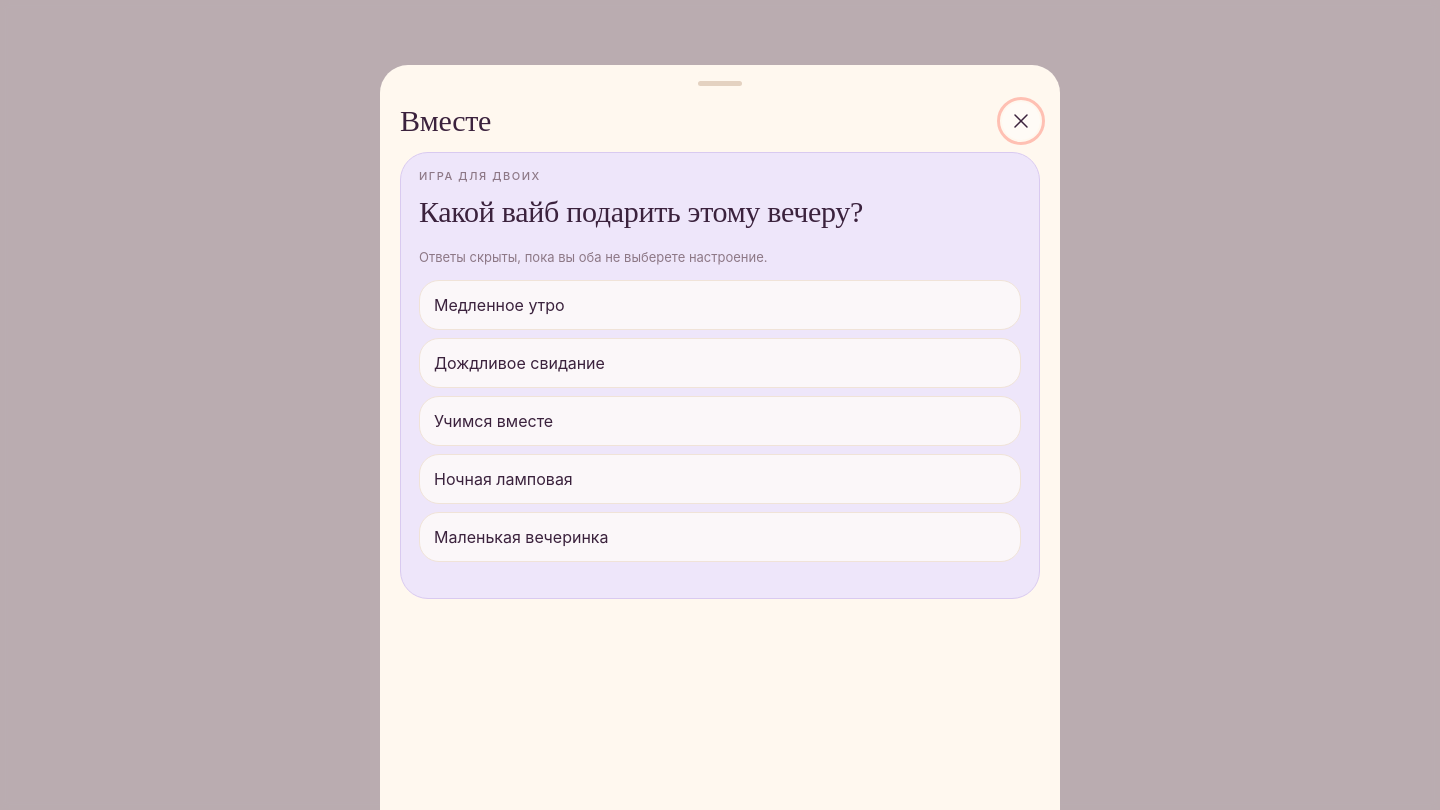
Test: choose-vibe pair game › waits for a partner after the first vibe choice
Click the button "Ночная ламповая" at (503, 479), box [419,454,1021,504]
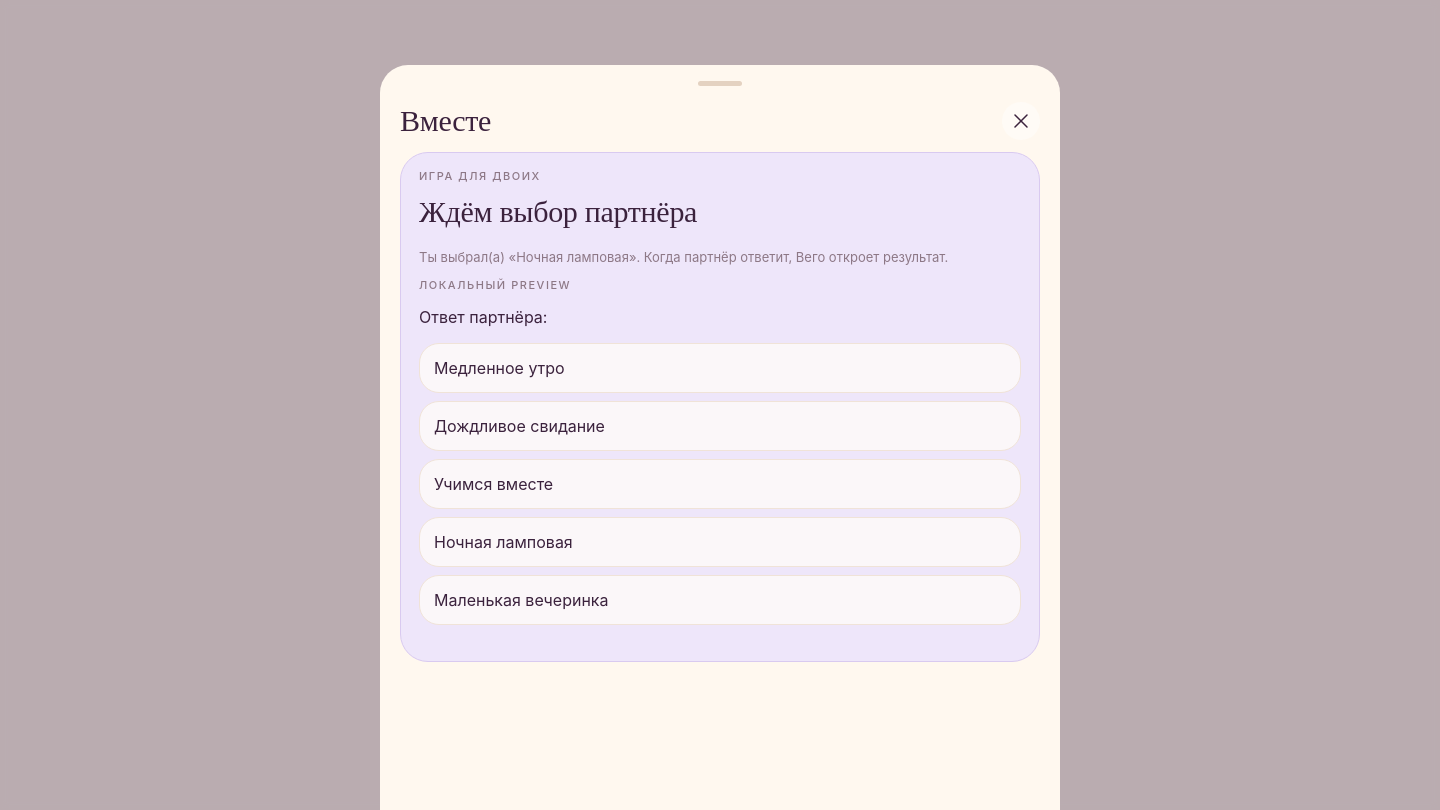
Result: the text "Ждём выбор партнёра" is shown at [419,195,697,228]
